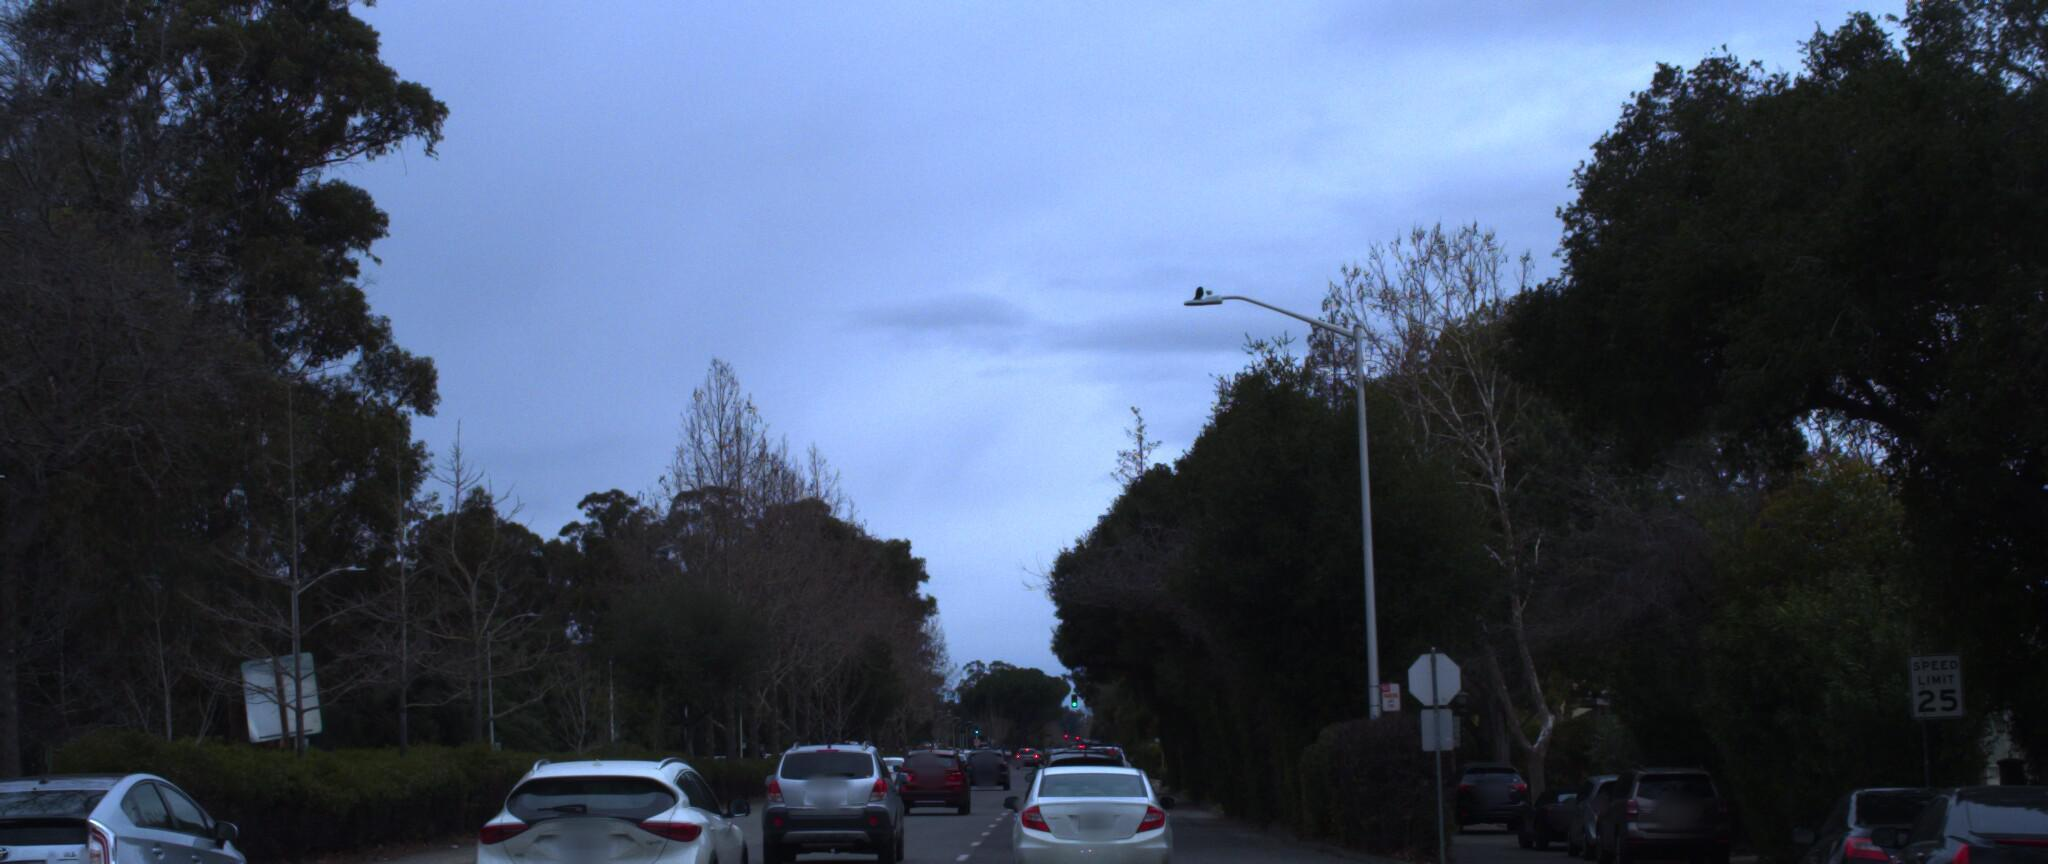car: (472, 743, 764, 864), (0, 760, 285, 864), (1782, 761, 2048, 864), (1836, 754, 2048, 864), (755, 728, 910, 864), (1002, 749, 1168, 864), (1570, 747, 1735, 861), (0, 777, 183, 864), (1541, 756, 1663, 851), (1505, 769, 1614, 842), (1430, 747, 1524, 824), (896, 733, 977, 807)
